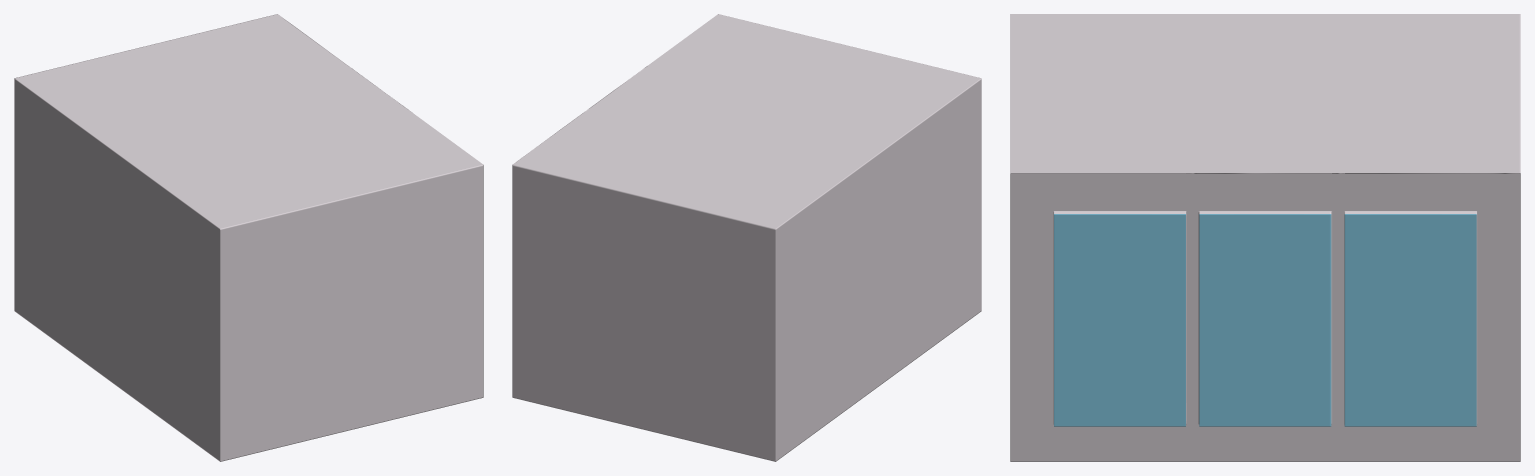
Rendered from OfficeWalls_low.fbx.
The picture shows the model from 3 angles, left to right: view 1: azimuth 30°, elevation 25°; view 2: azimuth 150°, elevation 25°; view 3: azimuth 270°, elevation 25°; orthographic projection. The views are drawn at different scales.
Parts seen in each view (by area): view 1: SM_OfficeWallsRoofGround_low; view 2: SM_OfficeWallsRoofGround_low; view 3: SM_OfficeWallsRoofGround_low.
Part boxes in pixels (x1,y1,x2,y2): SM_OfficeWallsRoofGround_low: [14, 14, 483, 461]; SM_OfficeWallsRoofGround_low: [512, 14, 981, 461]; SM_OfficeWallsRoofGround_low: [1010, 14, 1520, 461].
Bounding box in the file's own units: 300 × 250 × 400.
